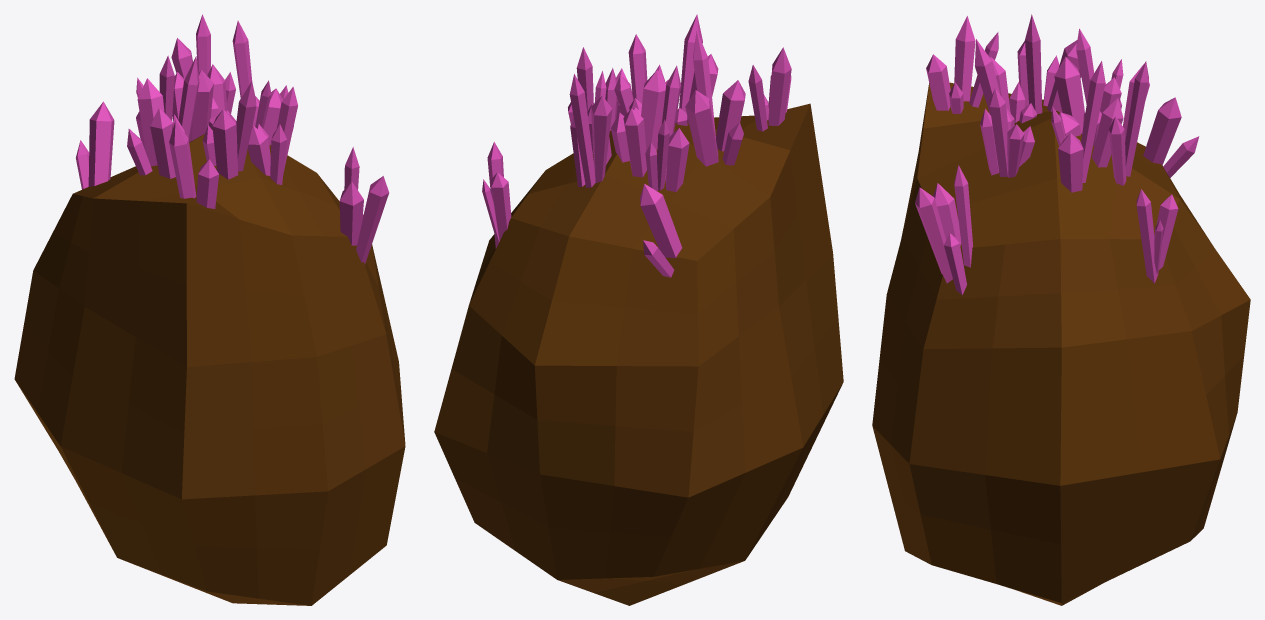
File: asteroid_crystal_5_1.fbx
3 views of the same model, side by side, from view 1: azimuth 30°, elevation 25°; view 2: azimuth 150°, elevation 25°; view 3: azimuth 270°, elevation 25° (orthographic).
Parts seen in each view (by area): view 1: crystal_5_1; view 2: crystal_5_1; view 3: crystal_5_1.
Boxes of the visible parts, x1=… form: crystal_5_1: x1=14, y1=14, x2=405, y2=605; crystal_5_1: x1=434, y1=14, x2=843, y2=605; crystal_5_1: x1=872, y1=14, x2=1250, y2=605.
Size of the model in its own units: 850 by 1376 by 832.
